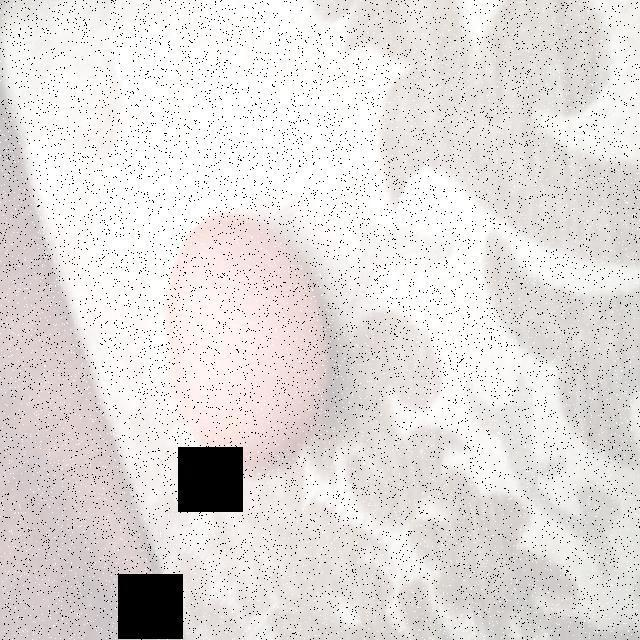egg: (156, 218, 337, 476)
